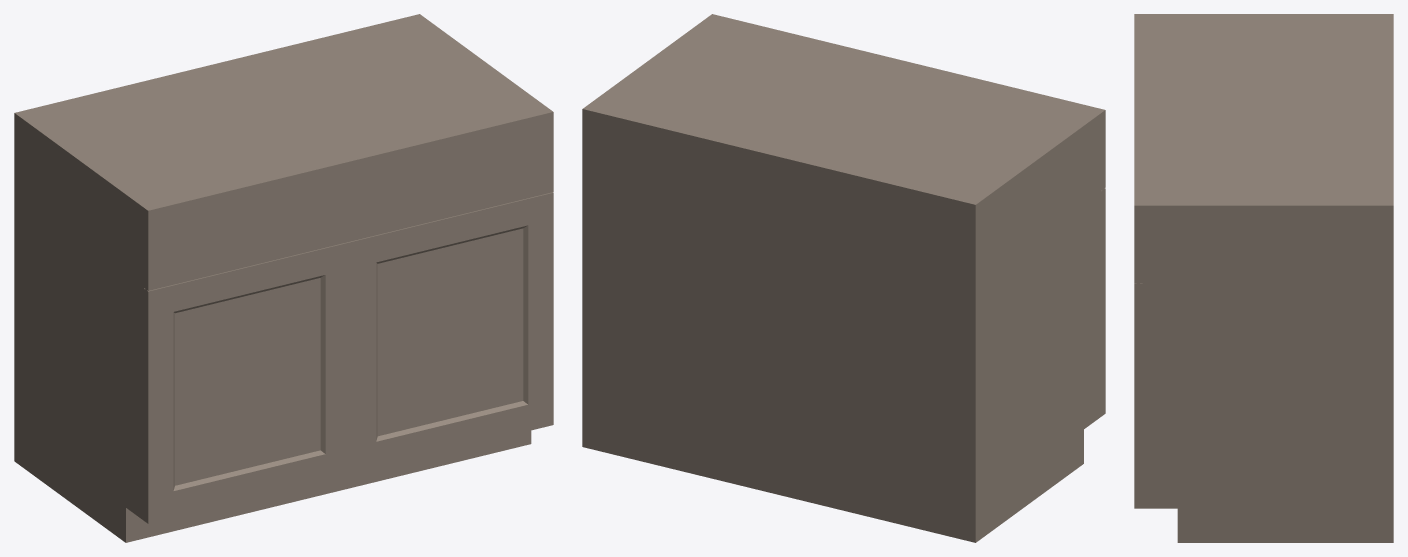
The model's file is Base-Cabinet-Double-Door-Two-Drawer-24-Deep.std.glb.
The picture shows the model from 3 angles, left to right: view 1: azimuth 30°, elevation 25°; view 2: azimuth 150°, elevation 25°; view 3: azimuth 270°, elevation 25°; orthographic projection. The views are drawn at different scales.
Parts seen in each view (by area): view 1: Base-Cabinet-Double-Door-Two-Drawer-24-Deep.std.001; view 2: Base-Cabinet-Double-Door-Two-Drawer-24-Deep.std.001; view 3: Base-Cabinet-Double-Door-Two-Drawer-24-Deep.std.001.
Boxes of the visible parts, bbox=[...] form: Base-Cabinet-Double-Door-Two-Drawer-24-Deep.std.001: bbox=[14, 14, 553, 542]; Base-Cabinet-Double-Door-Two-Drawer-24-Deep.std.001: bbox=[582, 14, 1105, 542]; Base-Cabinet-Double-Door-Two-Drawer-24-Deep.std.001: bbox=[1134, 14, 1393, 542].
Size of the model in its own units: 1.07 by 0.8763 by 0.6096.
